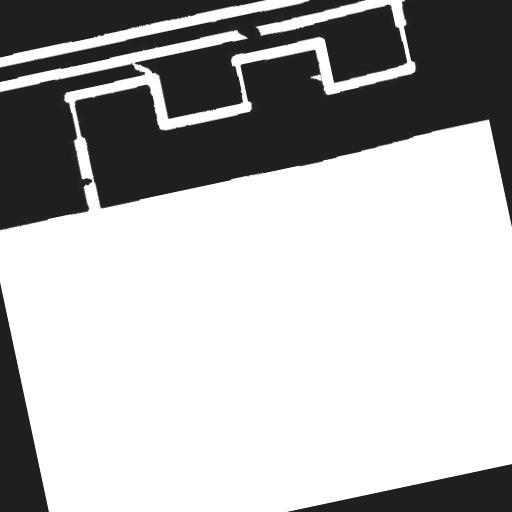mousebite: (300, 64, 334, 91)
open: (122, 49, 161, 86)
short: (226, 12, 270, 50)
spur: (66, 167, 101, 195)
